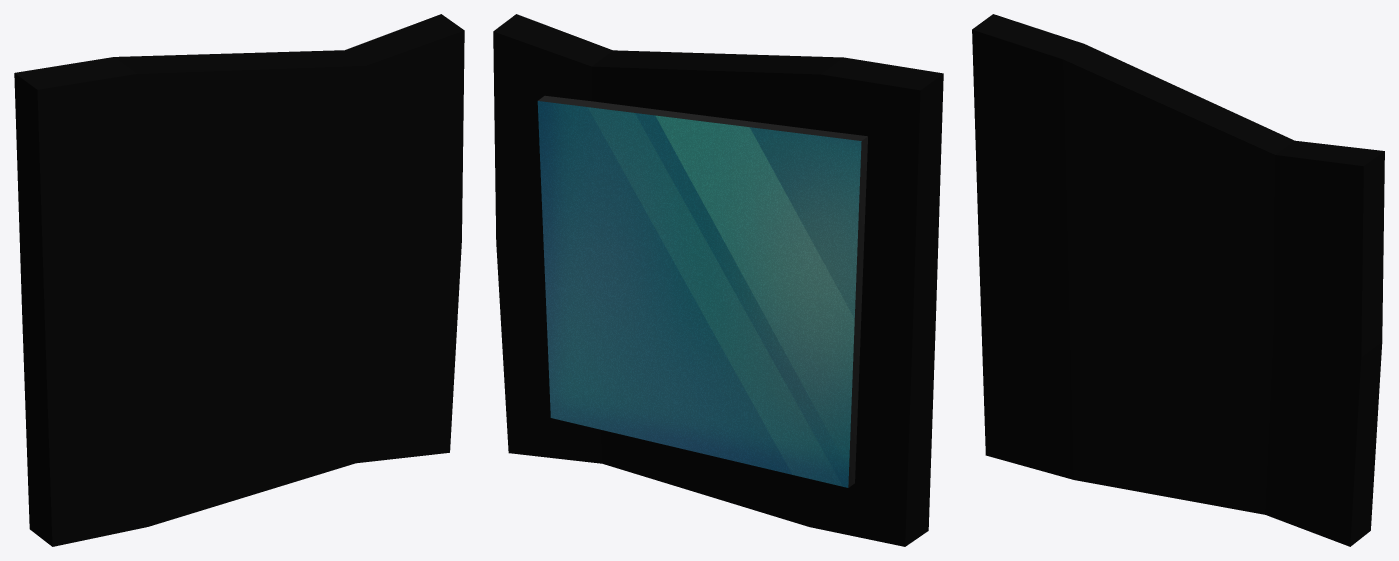
Rendered from bathroom_mirror.fbx.
The picture shows the model from 3 angles, left to right: view 1: azimuth 30°, elevation 25°; view 2: azimuth 150°, elevation 25°; view 3: azimuth 330°, elevation 25°; orthographic projection. The views are drawn at different scales.
Visible parts, largest first — view 1: Cube.058; view 2: Cube.058; view 3: Cube.058.
Part boxes in pixels (left/top/right/bottom): Cube.058: left=14, top=14, right=464, bottom=546; Cube.058: left=493, top=14, right=943, bottom=546; Cube.058: left=972, top=14, right=1384, bottom=546.
Bounding box in the file's own units: 338 × 351 × 40.81.
2 materials, 1 textured.
